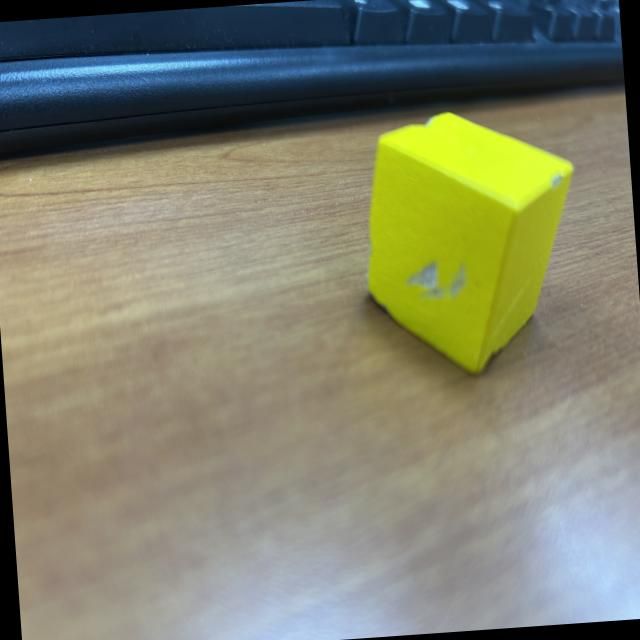broken: (355, 102, 588, 383)
